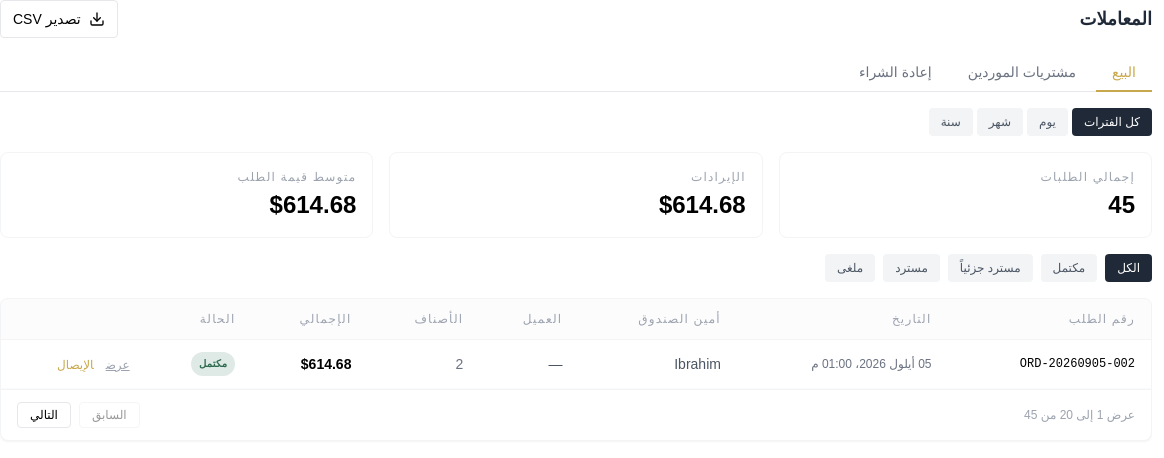
orders list in Arabic (NEX-64) › buybacks tab: headers and the buyback kind are Arabic
Click the button "إعادة الشراء": point(895, 73) [843,54,948,92]
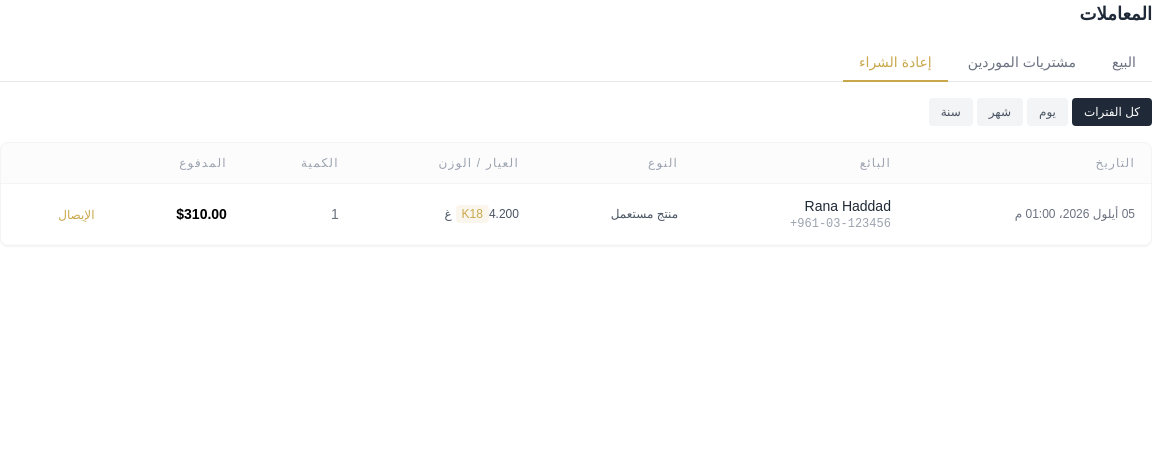
expect the text "منتج مستعمل" is shown: met, box [535,184,694,244]
